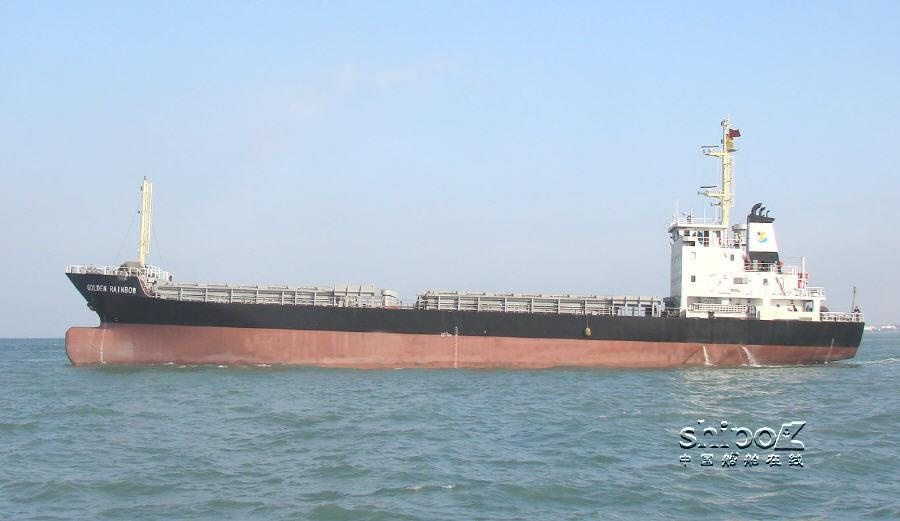Cargoship: (49, 119, 868, 377)
